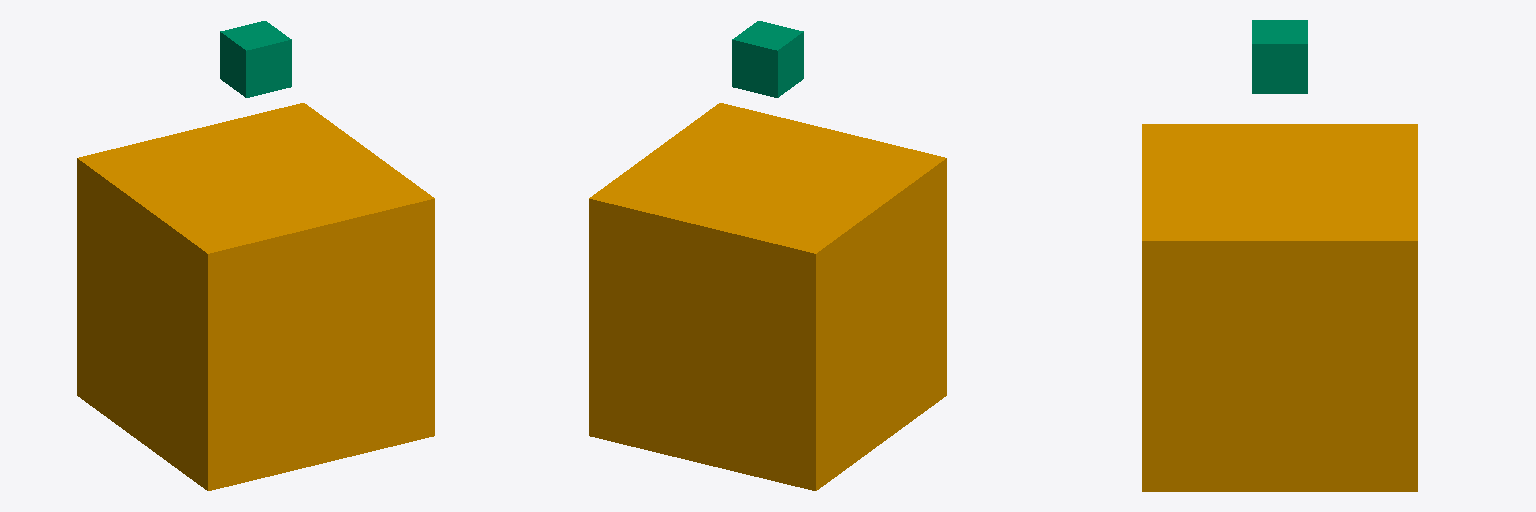
URDF robot description (mass_source_descendant):
<?xml version="1.0"?>
<robot name="mass_source_descendant">
  <link name="base">
    <inertial>
      <mass value="1"/>
      <inertia ixx="0.01" iyy="0.01" izz="0.01" ixy="0" ixz="0" iyz="0"/>
    </inertial>
    <visual>
      <geometry>
        <box size="0.1 0.1 0.1"/>
      </geometry>
    </visual>
  </link>
  <link name="drawn">
    <visual>
      <geometry>
        <box size="0.05 0.05 0.05"/>
      </geometry>
    </visual>
  </link>
  <link name="tool">
    <inertial>
      <mass value="0.4"/>
      <inertia ixx="0.01" iyy="0.01" izz="0.01" ixy="0" ixz="0" iyz="0"/>
    </inertial>
    <visual>
      <geometry>
        <box size="0.02 0.02 0.02"/>
      </geometry>
    </visual>
  </link>

  <joint name="drawn_joint" type="revolute">
    <parent link="base"/>
    <child link="drawn"/>
    <axis xyz="0 0 1"/>
  </joint>
  <joint name="tool_joint" type="fixed">
    <parent link="drawn"/>
    <child link="tool"/>
    <origin xyz="0 0 0.1"/>
  </joint>
</robot>

--- Facts derived from the render (not from the file) ---
Views: 3 orthographic renders of the robot side by side, from view 1: azimuth 30°, elevation 25°; view 2: azimuth 150°, elevation 25°; view 3: azimuth 270°, elevation 25°.
Robot: mass_source_descendant — 3 links, 2 joints (1 revolute, 1 fixed); root link base; default pose: all joints at 0.
Links seen in each view (by area): view 1: base, tool; view 2: base, tool; view 3: base, tool.
Boxes of the visible links, x1,y1,x2,y2 form: base: (77, 103, 434, 490); tool: (220, 21, 291, 97); base: (589, 103, 946, 490); tool: (732, 21, 803, 97); base: (1142, 124, 1417, 491); tool: (1252, 20, 1307, 93).
Size in the robot's own frame: 0.1 by 0.1 by 0.16 metres.
Geometry: primitives only (box / cylinder / sphere), no mesh files.
